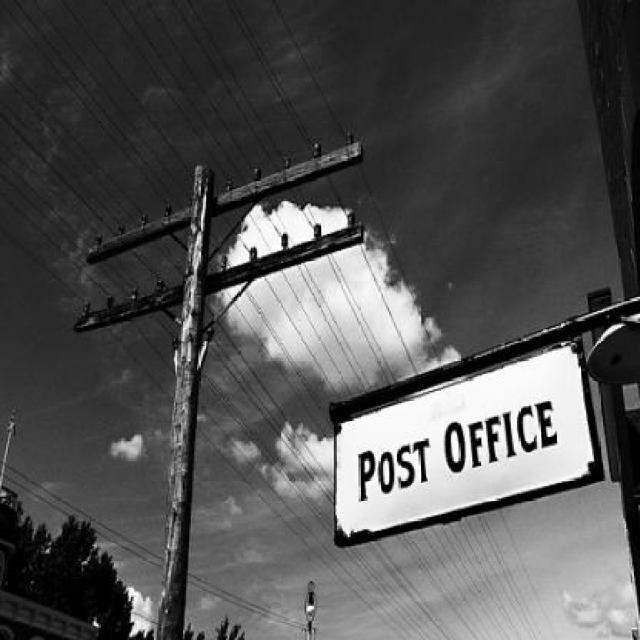pole: (84, 151, 256, 640)
